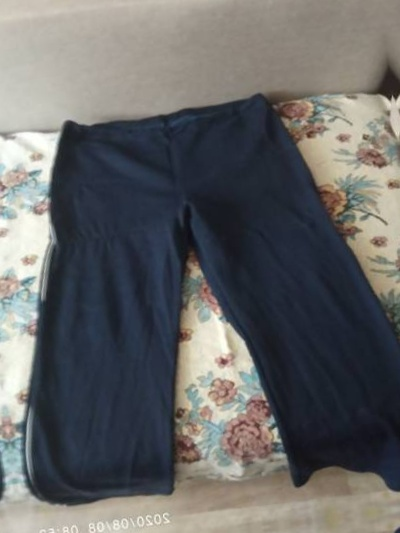Pants: (0, 44, 400, 529), (0, 99, 19, 533)
